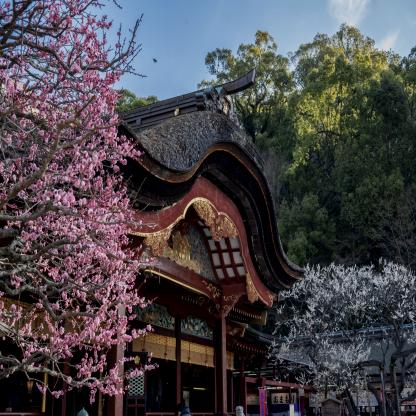Ume: (0, 0, 161, 401), (266, 258, 416, 415)
